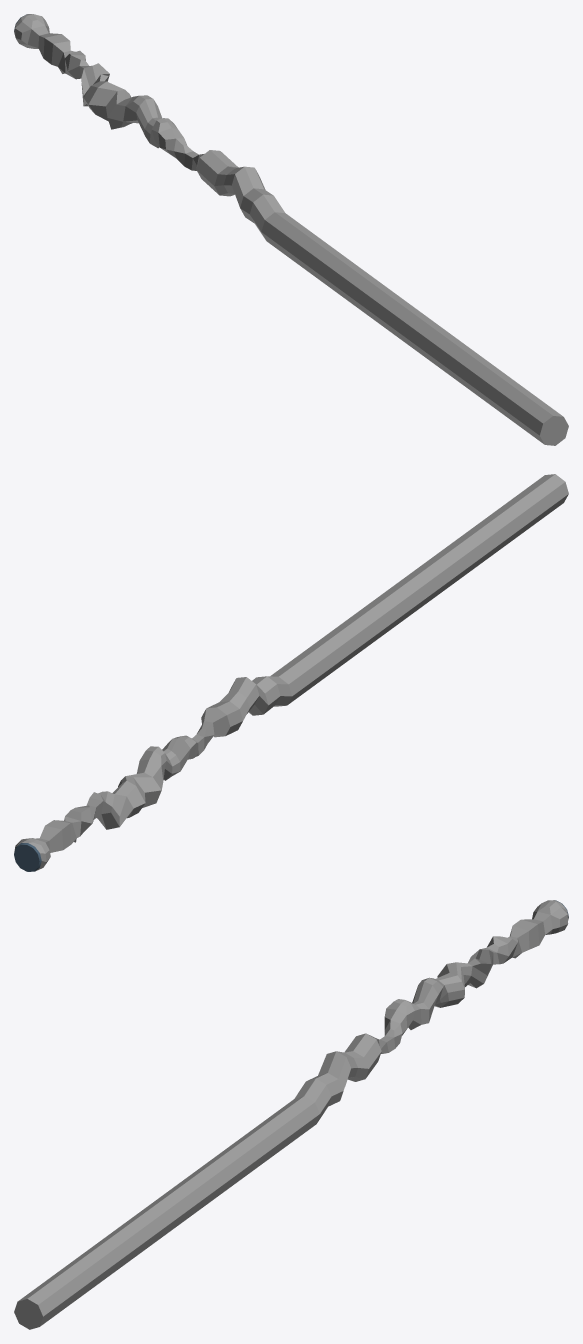
The model's file is Low Poly Vignette Island 2.fbx.
3 renders of one model, top to bottom at view 1: azimuth 30°, elevation 25°; view 2: azimuth 150°, elevation 25°; view 3: azimuth 330°, elevation 25°, orthographic.
Visible parts, largest first — view 1: Low Poly Island.001; view 2: Low Poly Island.001; view 3: Low Poly Island.001.
Boxes of the visible parts, box(x1,y1,x2,y2) form: Low Poly Island.001: box(14, 14, 568, 445); Low Poly Island.001: box(14, 474, 568, 871); Low Poly Island.001: box(14, 900, 568, 1329).
Size of the model in its own units: 1889 by 2136 by 38531.
